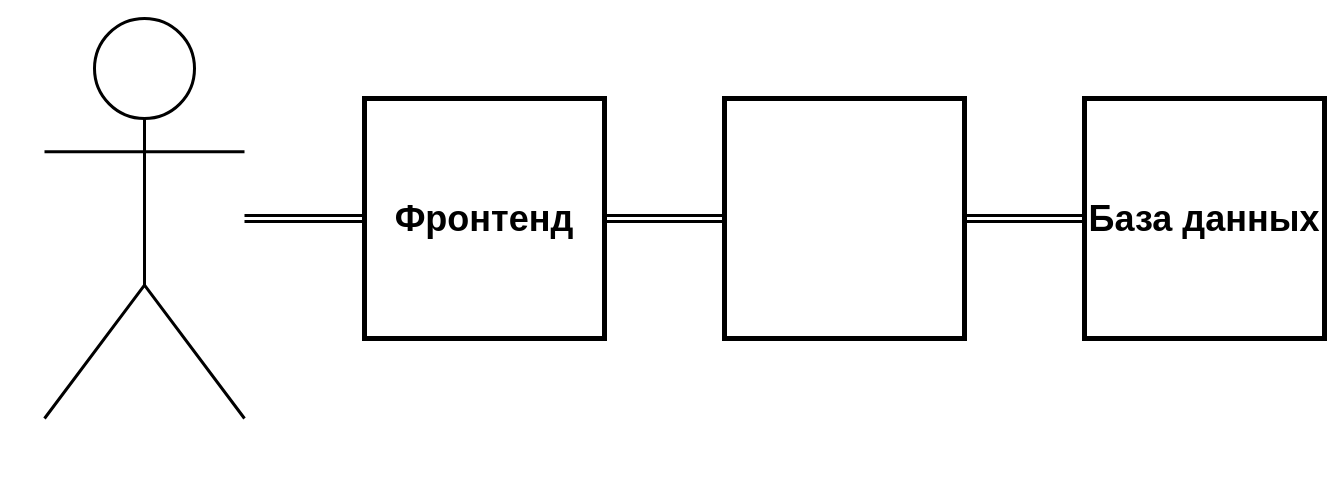
The diagram is 1344 pixels wide and 486 high, and some of its shapes have lost their labels. Here are the shapes that lost their labels. From the top down, the box of each, then its label:
(42, 16, 246, 420): Пользователи
(722, 96, 966, 340): Бэкенд
